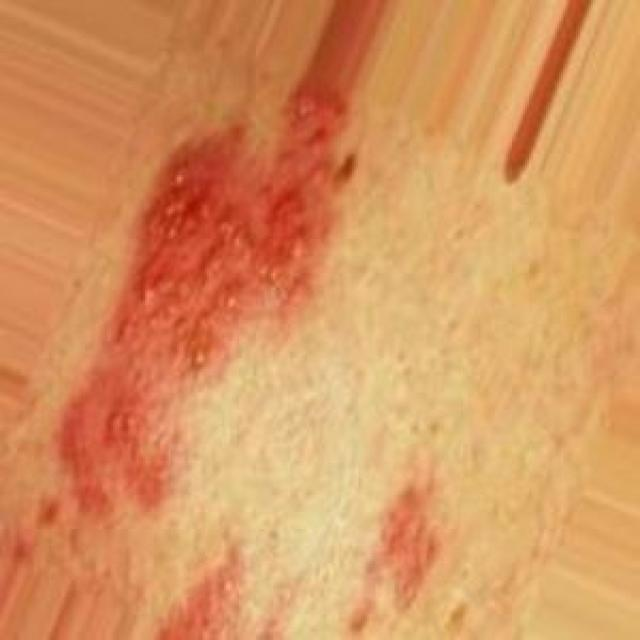Shingles: (37, 84, 358, 530), (148, 538, 280, 640), (355, 483, 441, 613)
